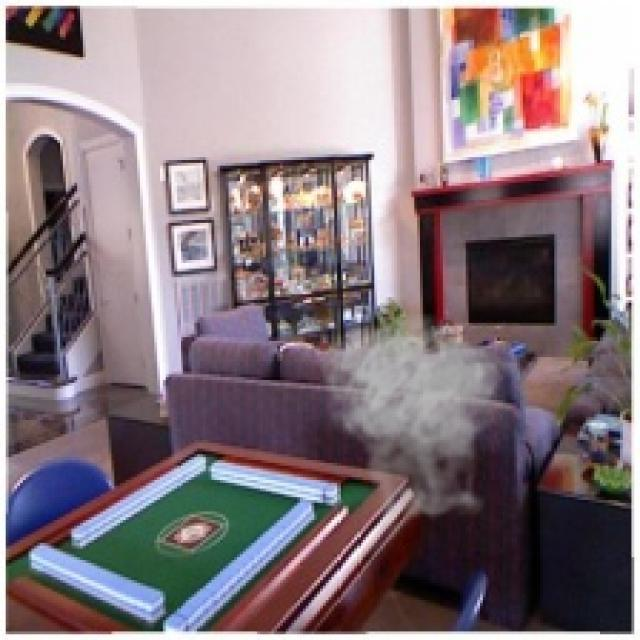Smoke: (314, 312, 520, 534)
